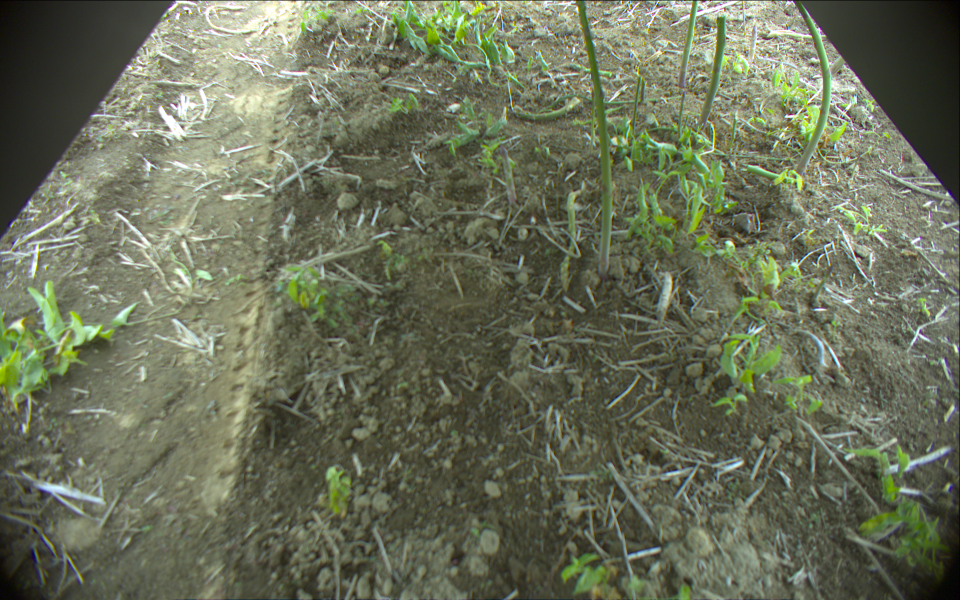aspa: (792, 1, 833, 173), (697, 13, 728, 130), (679, 1, 702, 89), (505, 100, 584, 121), (746, 162, 805, 189), (586, 95, 678, 107), (628, 71, 642, 146), (552, 64, 613, 80), (678, 92, 688, 132), (639, 79, 647, 105)
